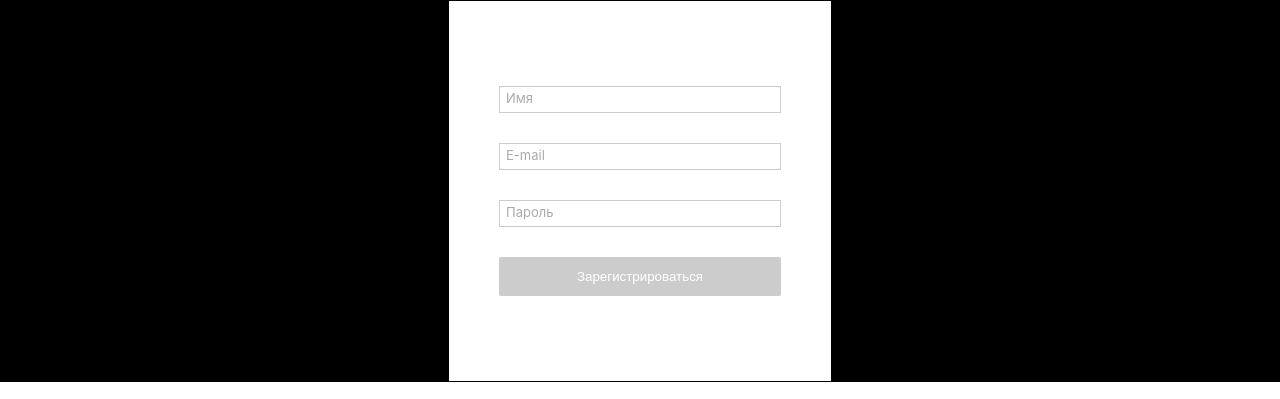
<AuthView /> spec › should display error and disable submit button with invalid data
This screenshot has width=1280, height=399.
In the field labelled "Имя": (640, 100) [499,86,781,113], type "1"
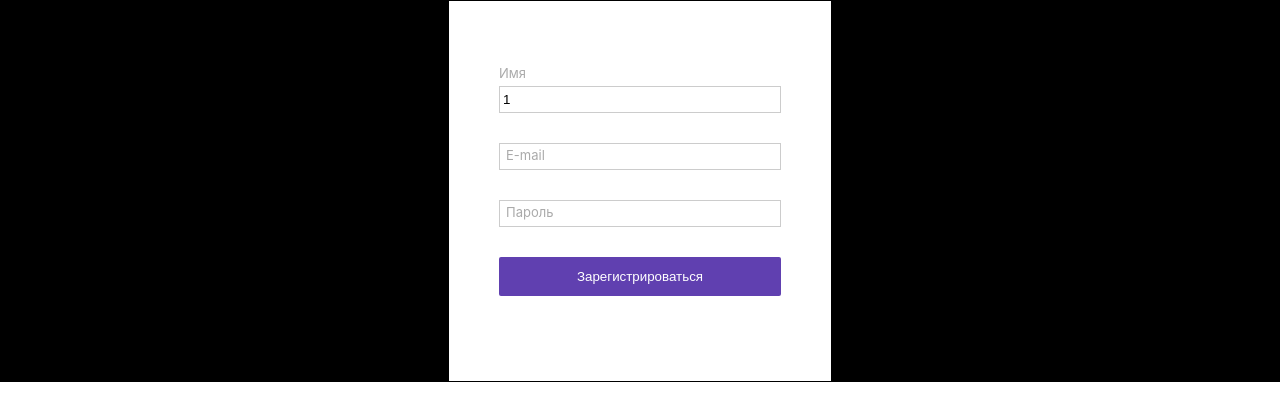
Leave the field labelled "Имя", box [499,86,781,113]
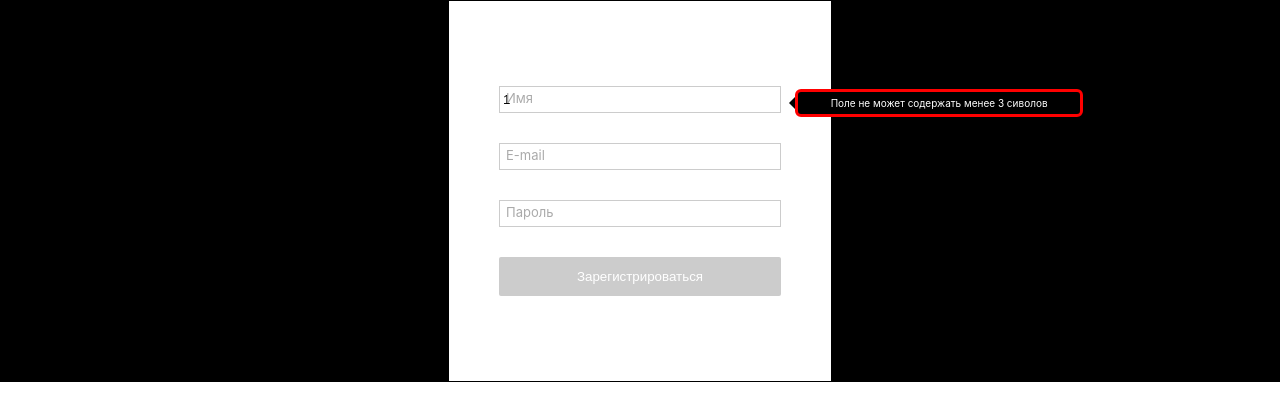
Expected: the text "Поле не может содержать менее 3 сиволов" is shown, [831,97,1048,109]
Expected: the button "Зарегистрироваться" is disabled, [499,257,781,296]
